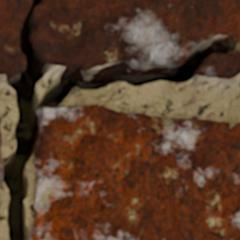brick: (29, 105, 239, 239), (0, 152, 2, 185)
broken_brick: (33, 0, 239, 69), (0, 0, 31, 76), (198, 49, 239, 79)
crack: (2, 0, 239, 239)
